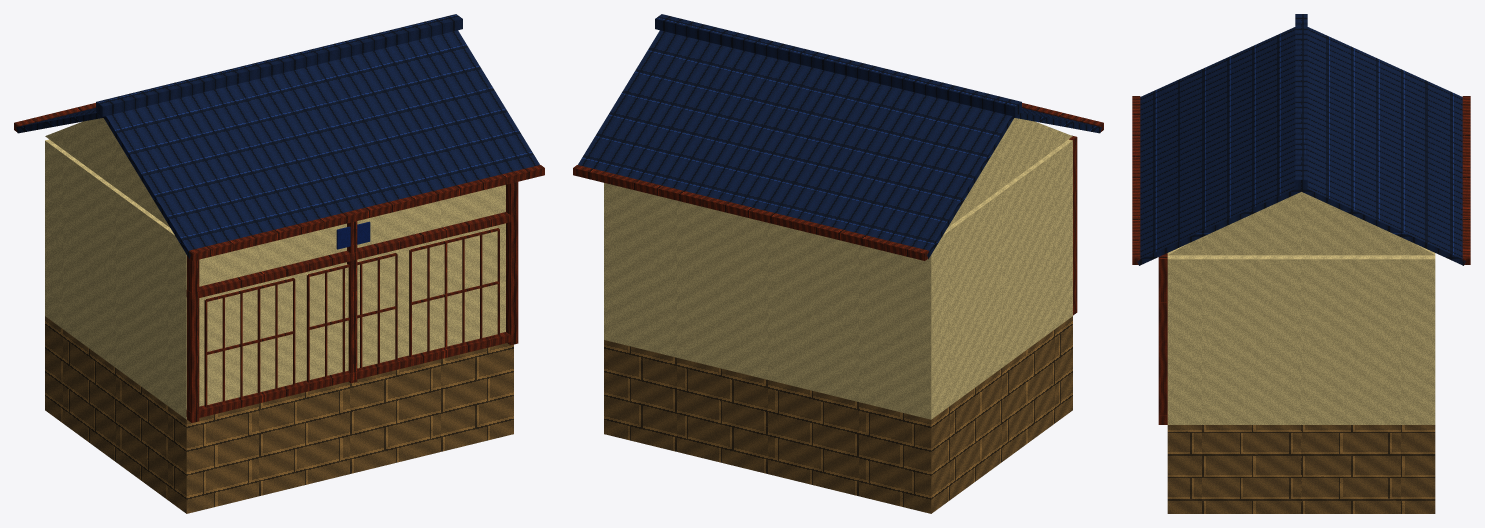
The model's file is plaster_storehouse.glb.
The picture shows the model from 3 angles, left to right: view 1: azimuth 30°, elevation 25°; view 2: azimuth 150°, elevation 25°; view 3: azimuth 270°, elevation 25°; orthographic projection. The views are drawn at different scales.
Parts seen in each view (by area): view 1: Body, Roof; view 2: Body, Roof; view 3: Body, Roof.
Part boxes in pixels (box(x1,y1,x2,y2)): Body: box(45, 139, 518, 513); Roof: box(14, 14, 544, 260); Body: box(604, 135, 1077, 513); Roof: box(573, 14, 1103, 260); Body: box(1158, 244, 1435, 513); Roof: box(1132, 14, 1470, 265).
Bounding box in the file's own units: 8.8 × 8.45 × 7.58.
Materials: 5 (5 with a texture image).
